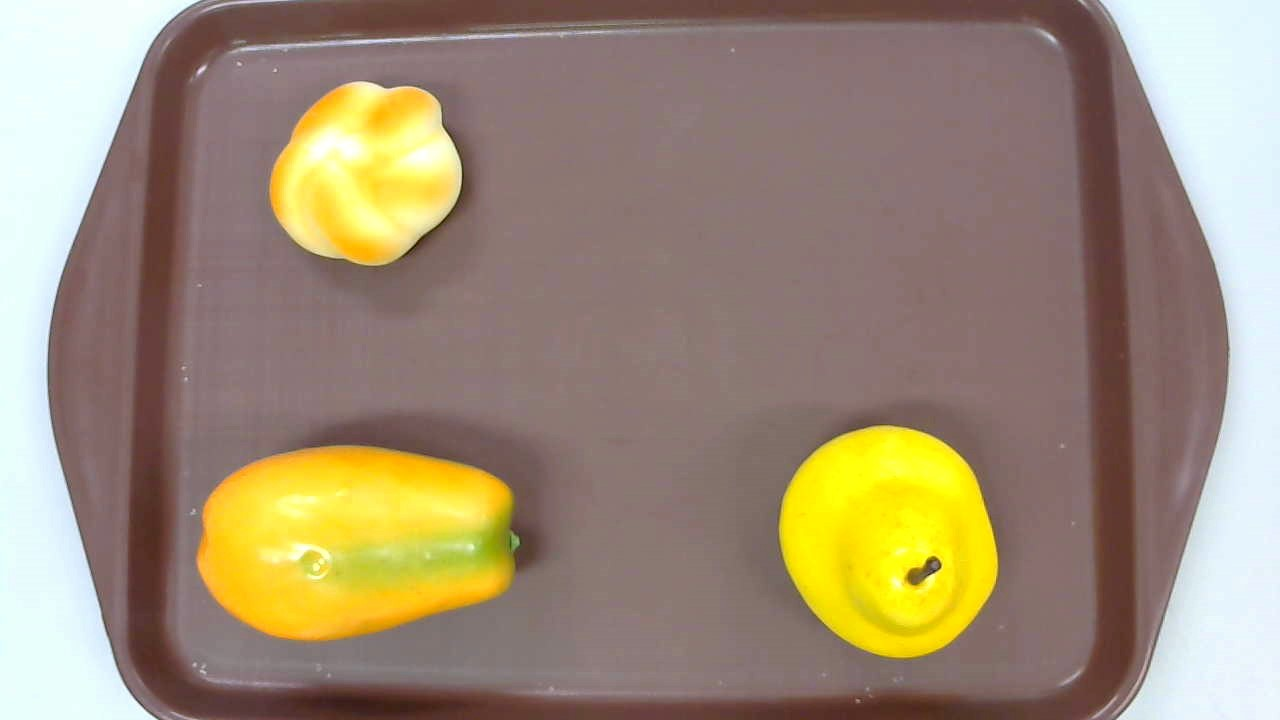papaya: (196, 445, 521, 641)
twist bread: (268, 80, 463, 266)
yellow pear: (778, 426, 997, 659)
